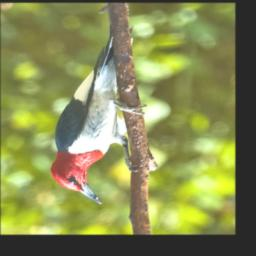Woodpecker: (49, 29, 146, 203)
